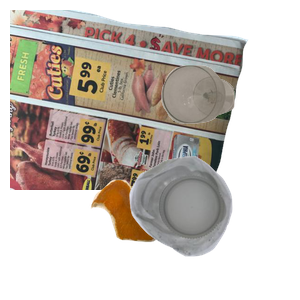glass: (159, 63, 300, 179)
paper: (10, 10, 250, 190)
plastic: (127, 154, 300, 300)
trash: (88, 177, 251, 300)
